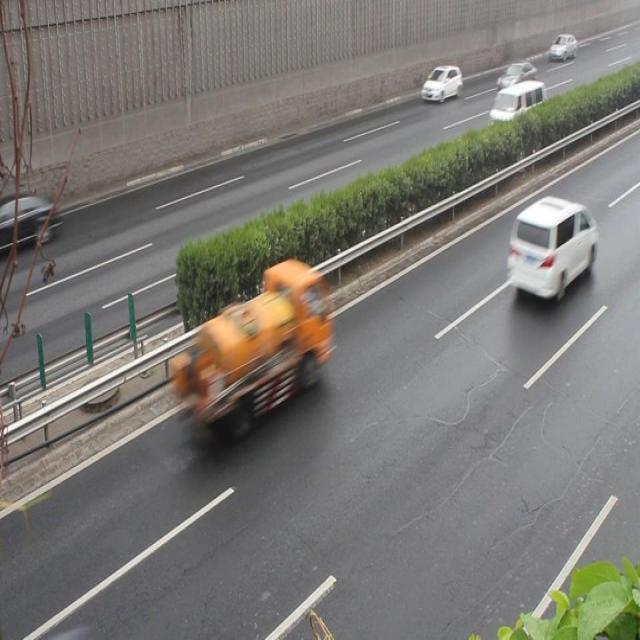bus: (183, 259, 332, 425)
car: (506, 193, 596, 298), (420, 64, 461, 102), (495, 60, 534, 95)
truck: (486, 82, 547, 133)
